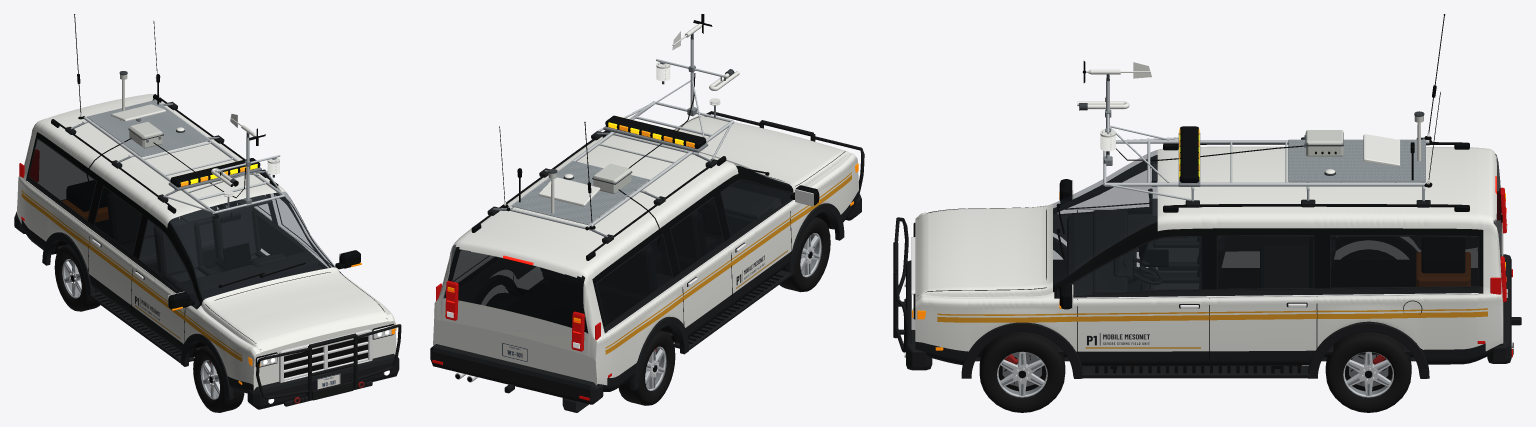
The model's file is PROBE_1_SUV_LOD1.glb.
3 renders of one model, left to right at view 1: azimuth 30°, elevation 25°; view 2: azimuth 150°, elevation 25°; view 3: azimuth 270°, elevation 25°, orthographic. The views are drawn at different scales.
Visible parts, largest first — view 1: Body_Paint_Primary, Glass_Glass_Front, Exterior_Trim_Trim_Black, Interior_Interior_Fabric, Glass_Glass_Privacy, Interior_Interior_Leather, Roof_Rack_Aluminum_DiamondPlate, Body_Trim_Black, Roof_Rack_Aluminum, Body_Trim_GlossBlack, Exterior_Trim_Chrome, Exterior_Trim_Steel_PowderBlack (+18 smaller); view 2: Body_Paint_Primary, Glass_Glass_Privacy, Exterior_Trim_Trim_Black, Interior_Interior_Fabric, Body_Trim_Black, Roof_Rack_Aluminum, Roof_Rack_Aluminum_DiamondPlate, Body_Trim_GlossBlack, Exterior_Trim_Underbody, Glass_Glass_Front, Roof_Rack_Sensor_White, Decals_Livery_Accent (+19 smaller); view 3: Body_Paint_Primary, Glass_Glass_Privacy, Glass_Glass_Front, Exterior_Trim_Trim_Black, Body_Trim_Black, Body_Trim_GlossBlack, Roof_Rack_Aluminum_DiamondPlate, Decals_Livery_Accent, WheelSpin_FL_Tire_Rubber, WheelSpin_RL_Tire_Rubber, Interior_Interior_Fabric, Roof_Rack_Aluminum (+21 smaller).
Boxes of the visible parts, box(x1,y1,x2,y2) form: Body_Paint_Primary: box(17, 94, 396, 390); Glass_Glass_Front: box(139, 192, 335, 306); Exterior_Trim_Trim_Black: box(14, 138, 399, 409); Interior_Interior_Fabric: box(107, 193, 257, 289); Glass_Glass_Privacy: box(29, 139, 141, 253); Interior_Interior_Leather: box(154, 208, 319, 295); Roof_Rack_Aluminum_DiamondPlate: box(87, 100, 209, 157); Body_Trim_Black: box(17, 175, 253, 393); Roof_Rack_Aluminum: box(82, 99, 285, 213); Body_Trim_GlossBlack: box(27, 132, 309, 308); Exterior_Trim_Chrome: box(27, 181, 393, 403); Exterior_Trim_Steel_PowderBlack: box(256, 324, 401, 400); Body_Paint_Primary: box(433, 116, 858, 385); Glass_Glass_Privacy: box(443, 198, 723, 333); Exterior_Trim_Trim_Black: box(430, 178, 861, 404); Interior_Interior_Fabric: box(540, 210, 716, 301); Body_Trim_Black: box(511, 191, 858, 391); Roof_Rack_Aluminum: box(508, 39, 734, 231); Roof_Rack_Aluminum_DiamondPlate: box(512, 161, 649, 224); Body_Trim_GlossBlack: box(592, 166, 793, 327); Exterior_Trim_Underbody: box(504, 181, 791, 334); Glass_Glass_Front: box(699, 152, 791, 236); Roof_Rack_Sensor_White: box(538, 62, 739, 213); Decals_Livery_Accent: box(605, 172, 851, 354); Body_Paint_Primary: box(915, 146, 1503, 351); Glass_Glass_Privacy: box(1217, 154, 1501, 288); Glass_Glass_Front: box(1053, 150, 1200, 296); Exterior_Trim_Trim_Black: box(904, 203, 1511, 378); Body_Trim_Black: box(915, 286, 1503, 366); Body_Trim_GlossBlack: box(1053, 222, 1483, 297); Roof_Rack_Aluminum_DiamondPlate: box(1288, 139, 1425, 182); Decals_Livery_Accent: box(937, 308, 1487, 322); WheelSpin_FL_Tire_Rubber: box(979, 332, 1065, 412); WheelSpin_RL_Tire_Rubber: box(1325, 332, 1411, 412); Interior_Interior_Fabric: box(1150, 237, 1335, 290); Roof_Rack_Aluminum: box(1103, 80, 1429, 200).
Size of the model in its own units: 2.5 by 3.33 by 5.71.
41 materials, 4 textured.
